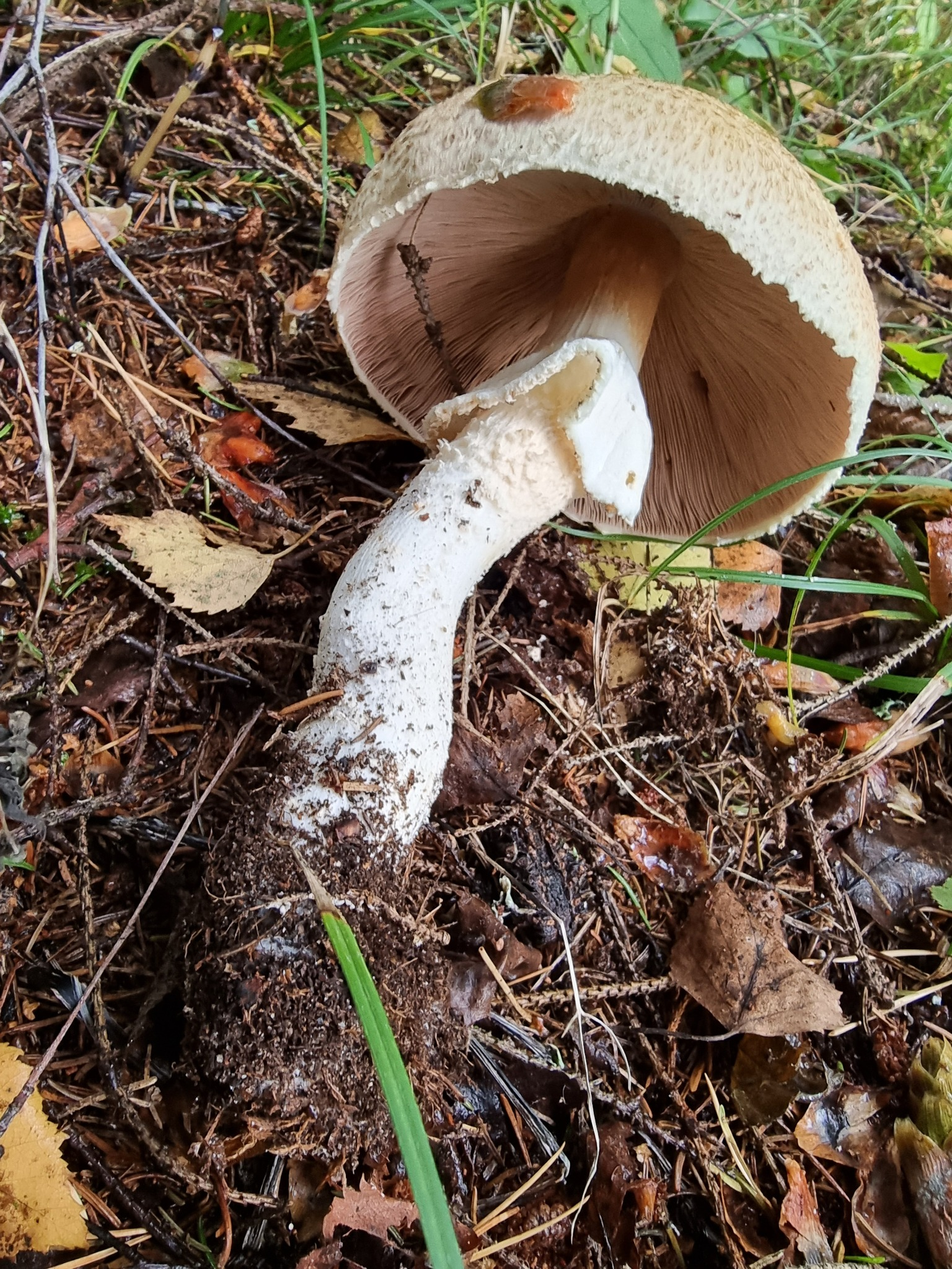Cap: (335, 74, 879, 427)
Stem: (284, 208, 680, 843)
Underside: (335, 169, 858, 536)
